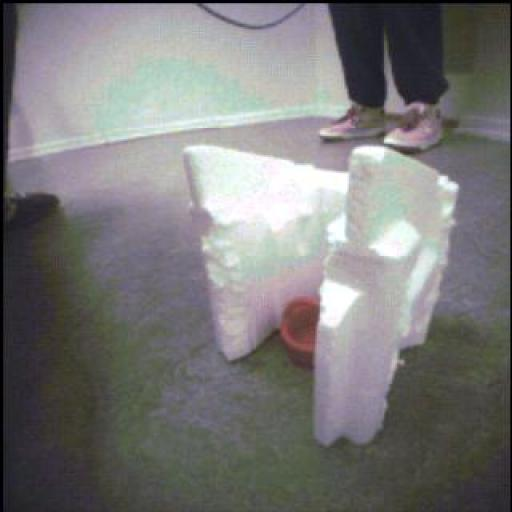Bucket: (275, 290, 321, 368)
